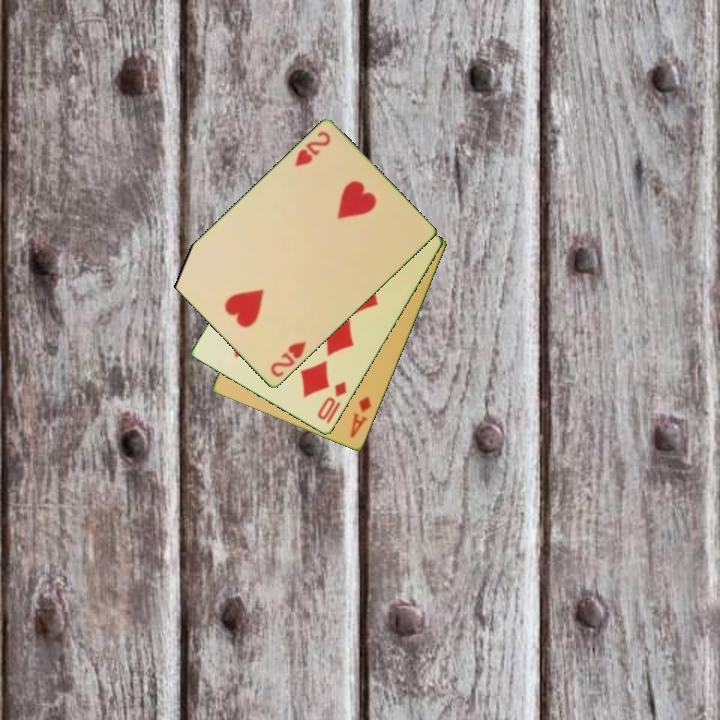10d: (314, 378, 350, 427)
2h: (267, 338, 309, 381), (291, 128, 333, 170)
Ad: (347, 393, 374, 441)
